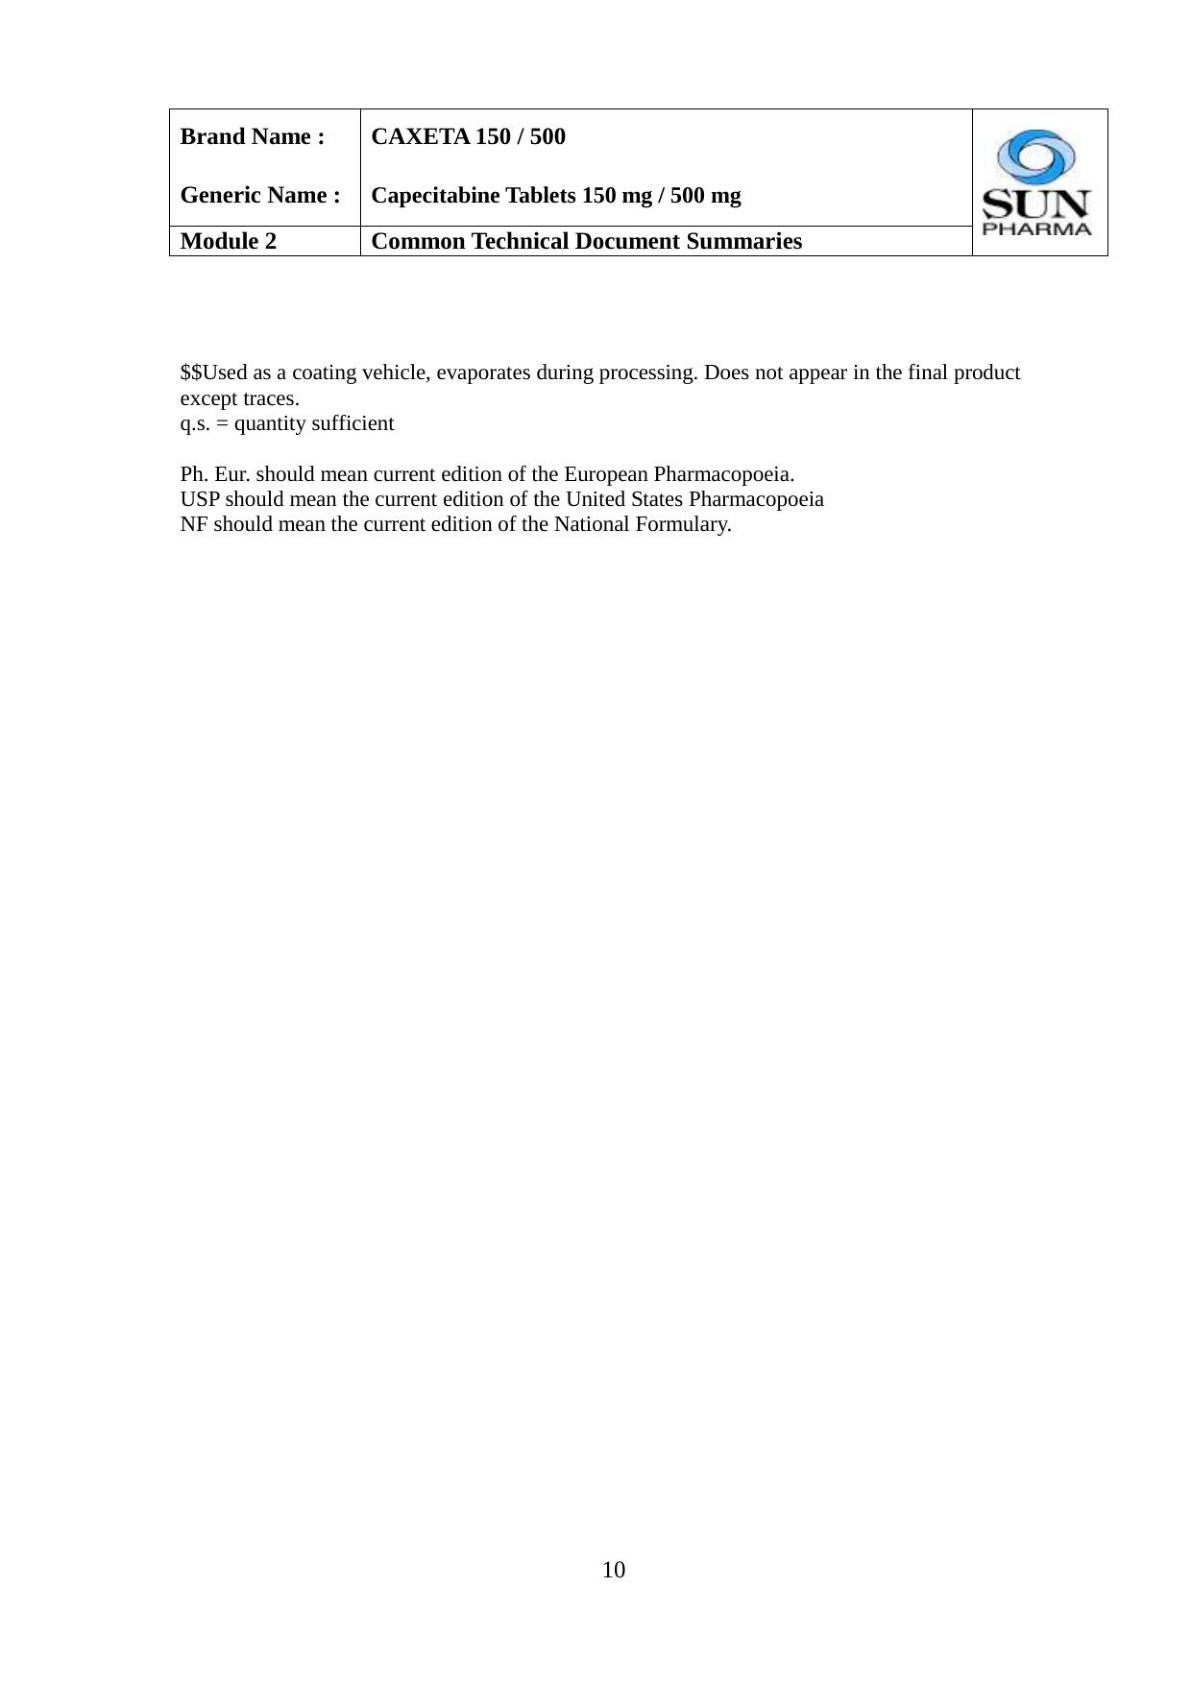merged_cells: (166, 106, 1109, 258)
